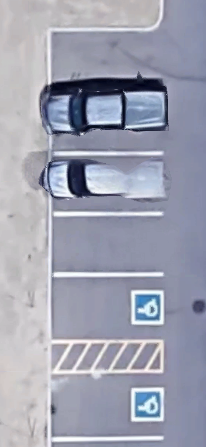Occupied: (50, 93, 164, 154), (50, 154, 163, 214)
Vacant: (49, 372, 162, 439), (51, 276, 163, 340), (49, 30, 162, 92), (50, 214, 163, 275)
